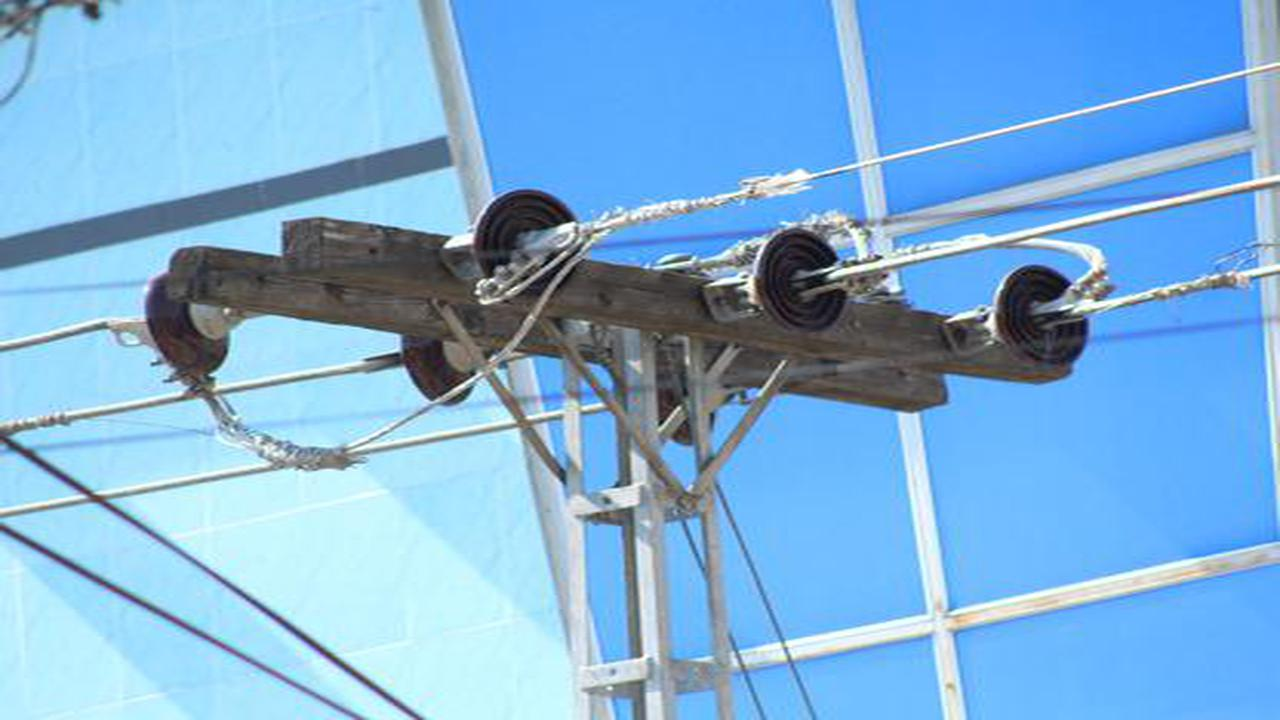insulator_disc: (467, 186, 587, 297), (987, 259, 1095, 371), (752, 227, 855, 339), (138, 274, 234, 380), (397, 328, 489, 408)
